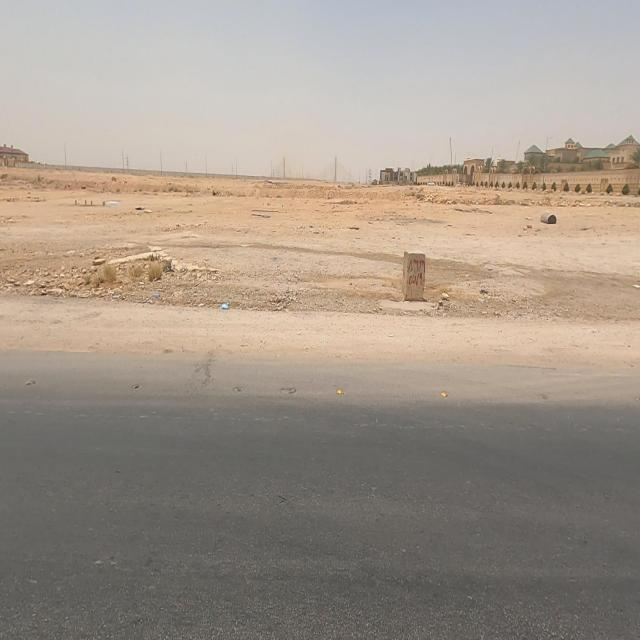debris: (194, 276, 250, 338)
